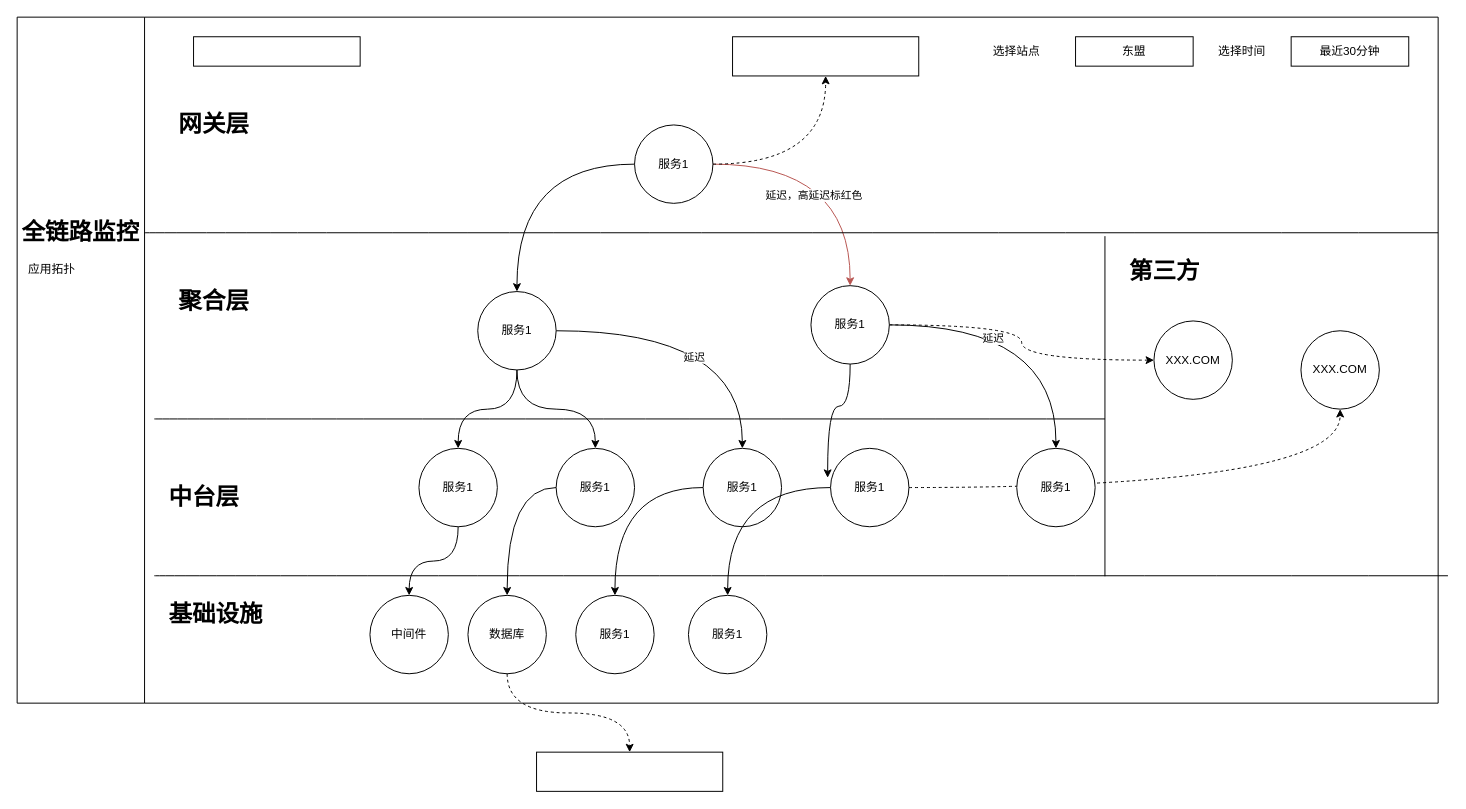
The diagram is 1466 pixels wide and 809 high, and some of its shapes have lost their labels. The shapes that lost their labels are listed below. From the top down, each one's box as (x1, y1, x2, y2) in pixels, then its label:
(193, 36, 360, 66): 选择业务
(732, 36, 919, 76): 点击跳转服务详情页
(536, 751, 723, 791): 点击跳转基础资源详情页
